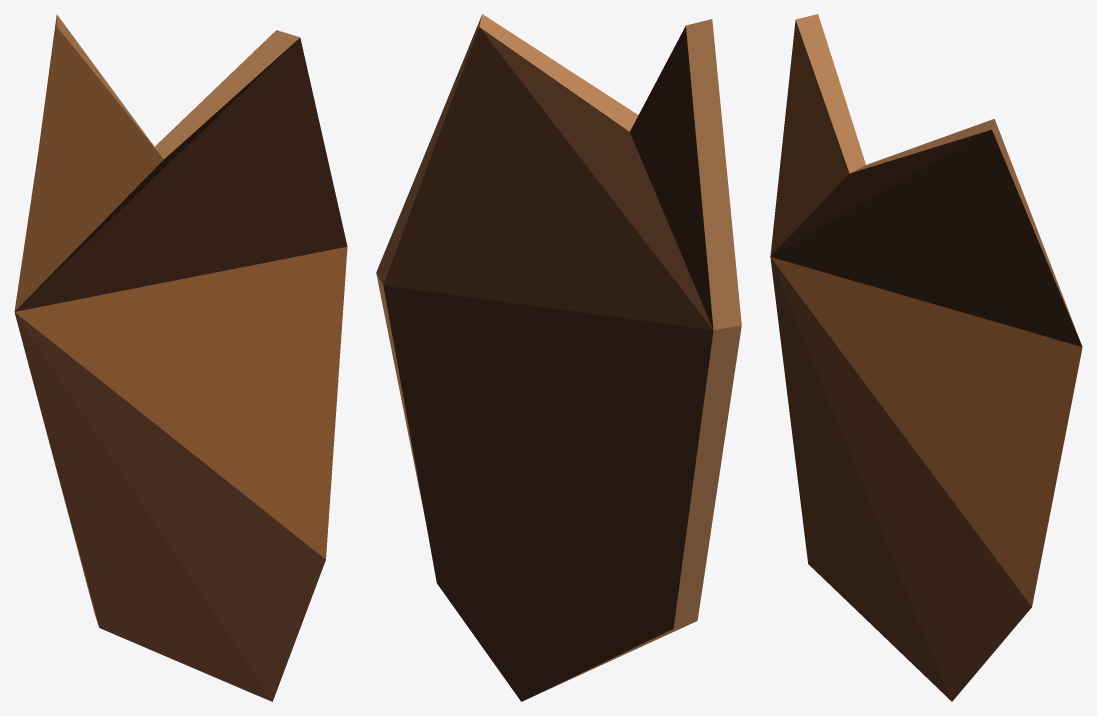
The model's file is beer_bottle_piece_front.glb.
3 renders of one model, left to right at view 1: azimuth 30°, elevation 25°; view 2: azimuth 150°, elevation 25°; view 3: azimuth 330°, elevation 25°, orthographic. The views are drawn at different scales.
Parts seen in each view (by area): view 1: Curved solid jagged glass; view 2: Curved solid jagged glass; view 3: Curved solid jagged glass.
Part boxes in pixels (x1=…): Curved solid jagged glass: x1=14, y1=14, x2=347, y2=701; Curved solid jagged glass: x1=376, y1=14, x2=741, y2=701; Curved solid jagged glass: x1=770, y1=14, x2=1082, y2=701.
Bounding box in the file's own units: 0.043 × 0.0849 × 0.011.
